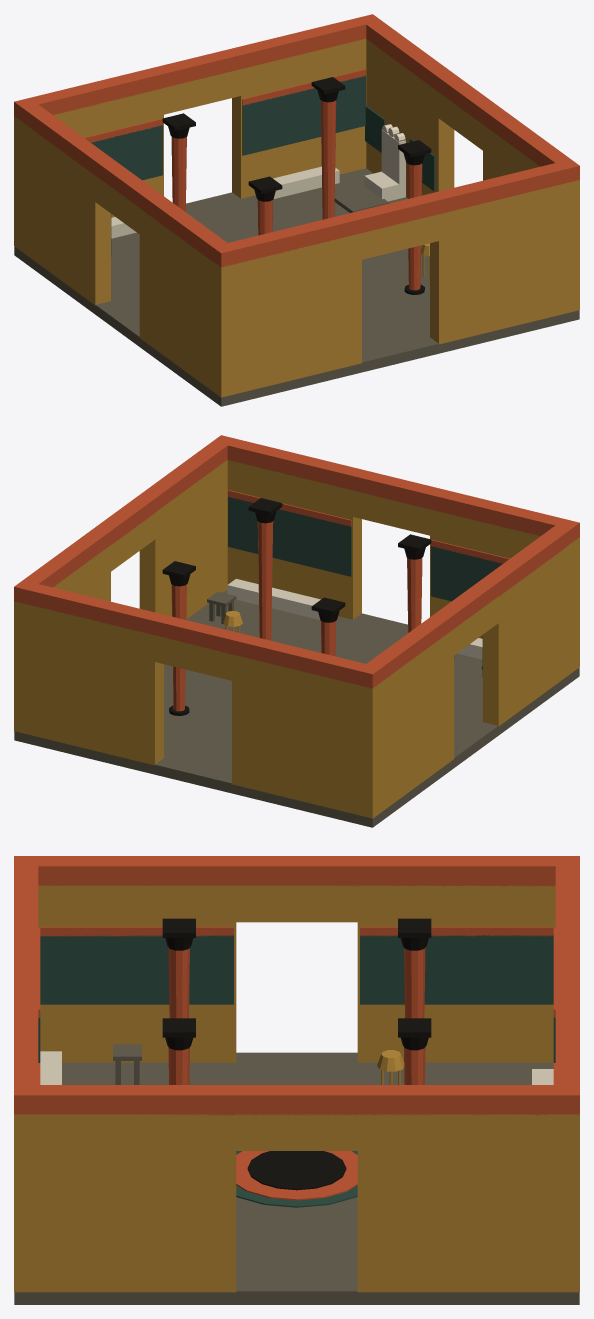
Rendered from BronzeMegaron.fbx.
3 views of the same model, one above another, from view 1: azimuth 30°, elevation 25°; view 2: azimuth 150°, elevation 25°; view 3: azimuth 270°, elevation 25° (orthographic). The views are drawn at different scales.
Visible parts, largest first — view 1: BronzeMegaron; view 2: BronzeMegaron; view 3: BronzeMegaron.
Part boxes in pixels (x1,y1,x2,y2): BronzeMegaron: (14, 14, 579, 406); BronzeMegaron: (14, 435, 579, 827); BronzeMegaron: (14, 856, 579, 1304).
Bounding box in the file's own units: 1202 × 492 × 1202.
Materials: 6 (6 with a texture image).
